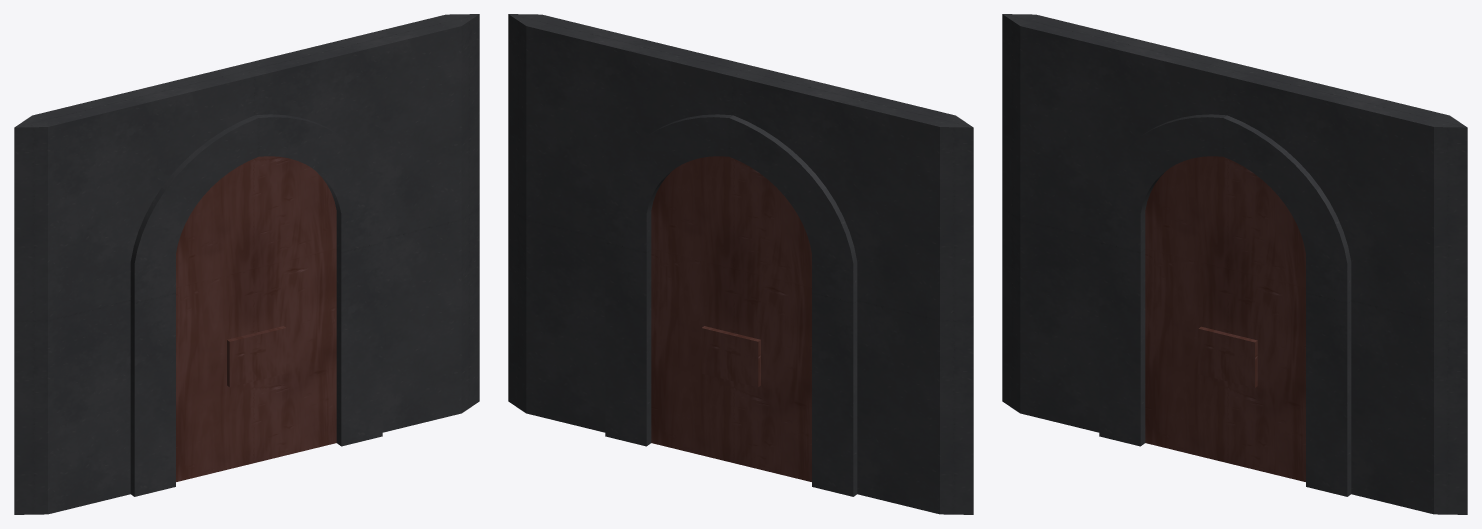
Rendered from grey-door.glb.
The picture shows the model from 3 angles, left to right: view 1: azimuth 30°, elevation 25°; view 2: azimuth 150°, elevation 25°; view 3: azimuth 330°, elevation 25°; orthographic projection.
Parts seen in each view (by area): view 1: doorway_arch, door; view 2: doorway_arch, door; view 3: doorway_arch, door.
Part boxes in pixels (box(x1,y1,x2,y2)): doorway_arch: box(14, 14, 479, 514); door: box(176, 156, 336, 481); doorway_arch: box(508, 14, 973, 514); door: box(651, 156, 811, 481); doorway_arch: box(1002, 14, 1467, 514); door: box(1145, 156, 1305, 481).
Size of the model in its own units: 2.14 by 1.7 by 0.185.
4 materials, 4 textured.
